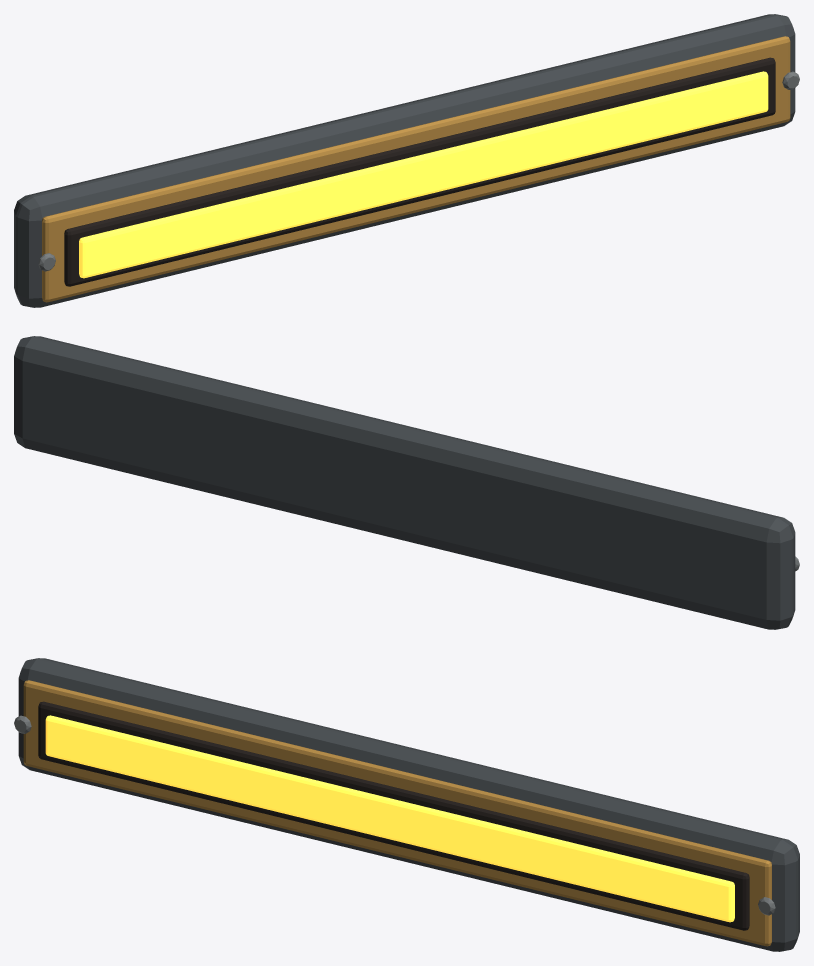
Rendered from FS_FX_ProgressFrame.glb.
3 views of the same model, one above another, from view 1: azimuth 30°, elevation 25°; view 2: azimuth 150°, elevation 25°; view 3: azimuth 330°, elevation 25° (orthographic).
Visible parts, largest first — view 1: ProgressFill, Progress_Backplate, Progress_BrassInset, Progress_Track; view 2: Progress_Backplate; view 3: ProgressFill, Progress_Backplate, Progress_BrassInset, Progress_Track.
Boxes of the visible parts, <box> form: ProgressFill: <box>79,71,768,278</box>; Progress_Backplate: <box>14,14,795,307</box>; Progress_BrassInset: <box>42,36,790,302</box>; Progress_Track: <box>64,57,775,286</box>; Progress_Backplate: <box>14,336,795,629</box>; ProgressFill: <box>45,715,734,922</box>; Progress_Backplate: <box>18,658,799,951</box>; Progress_BrassInset: <box>23,680,771,946</box>; Progress_Track: <box>38,701,749,930</box>.
Bounding box in the file's own units: 2.2 × 0.3 × 0.1545.
